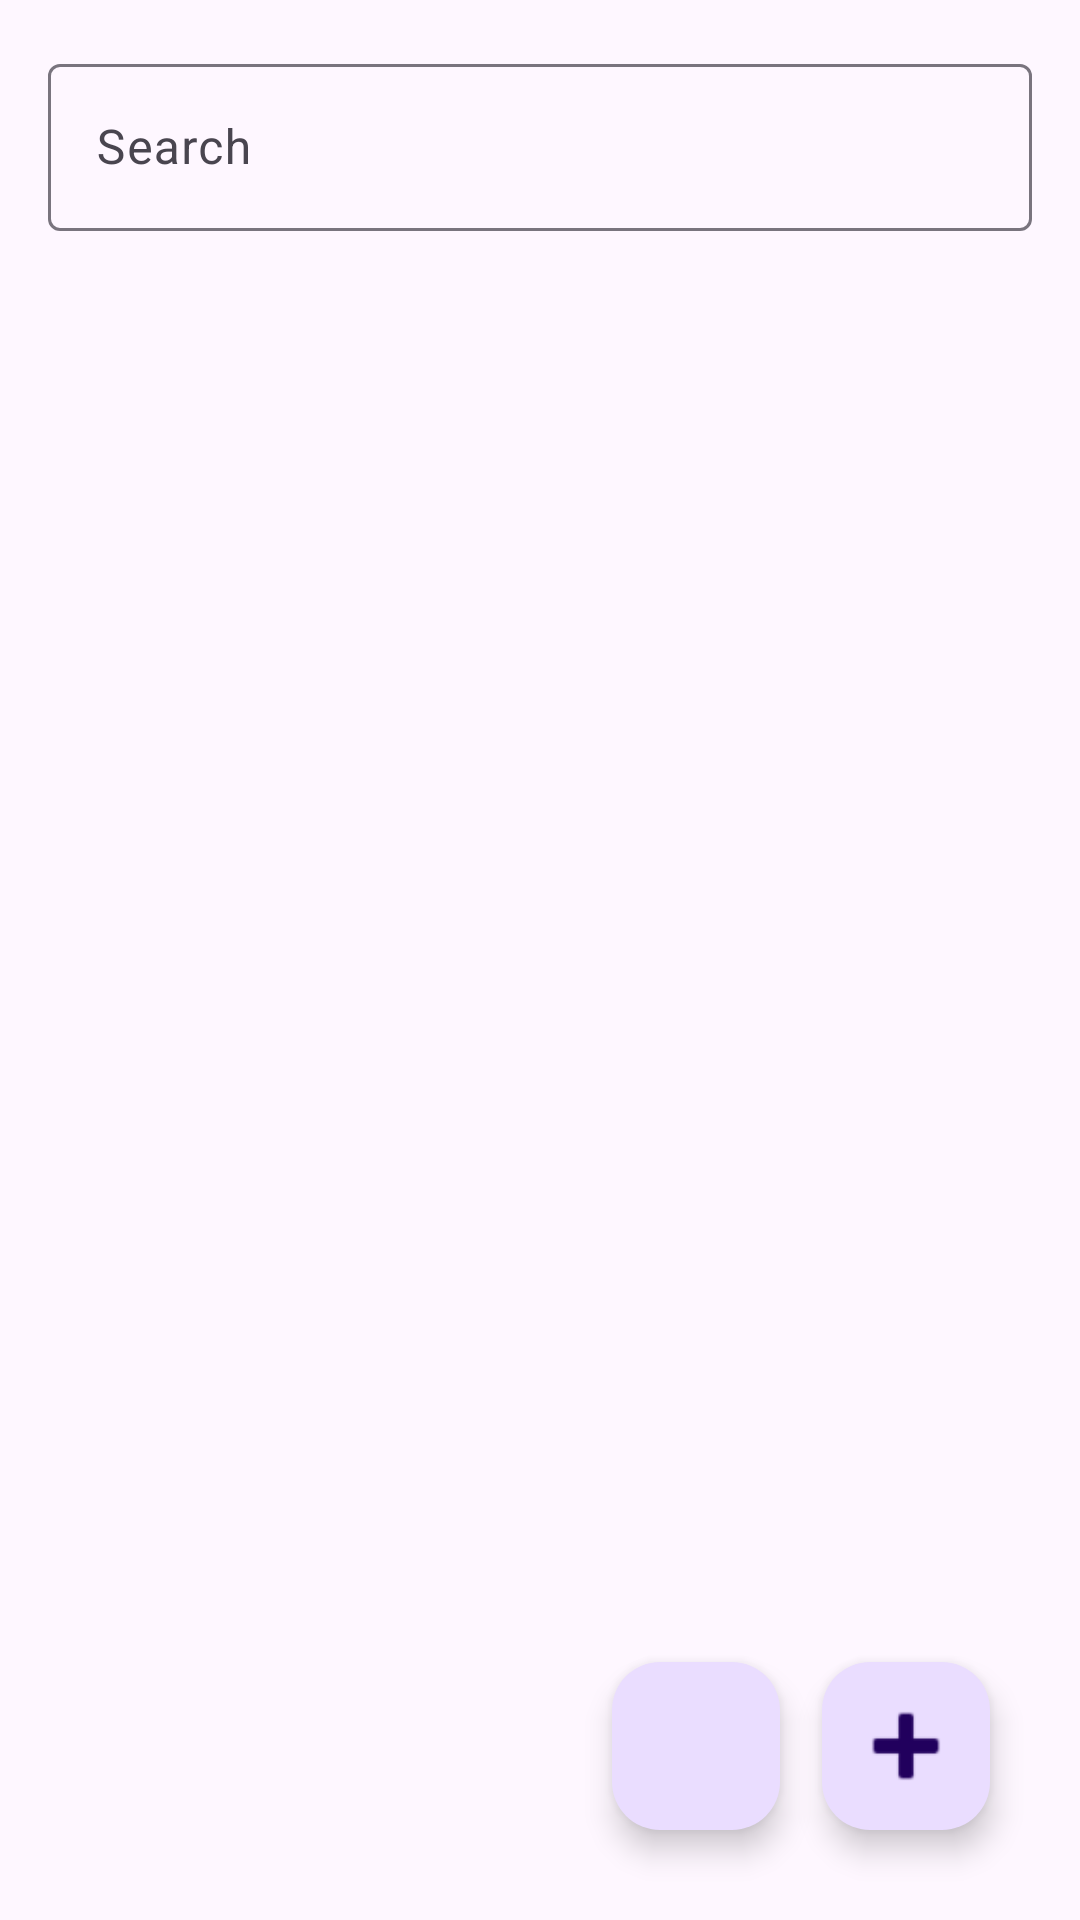

Icon bounding boxes for this 1080px×1920px phone screenshot, format (x1, y1, x2, y2):
add: (822, 1662, 990, 1830)
